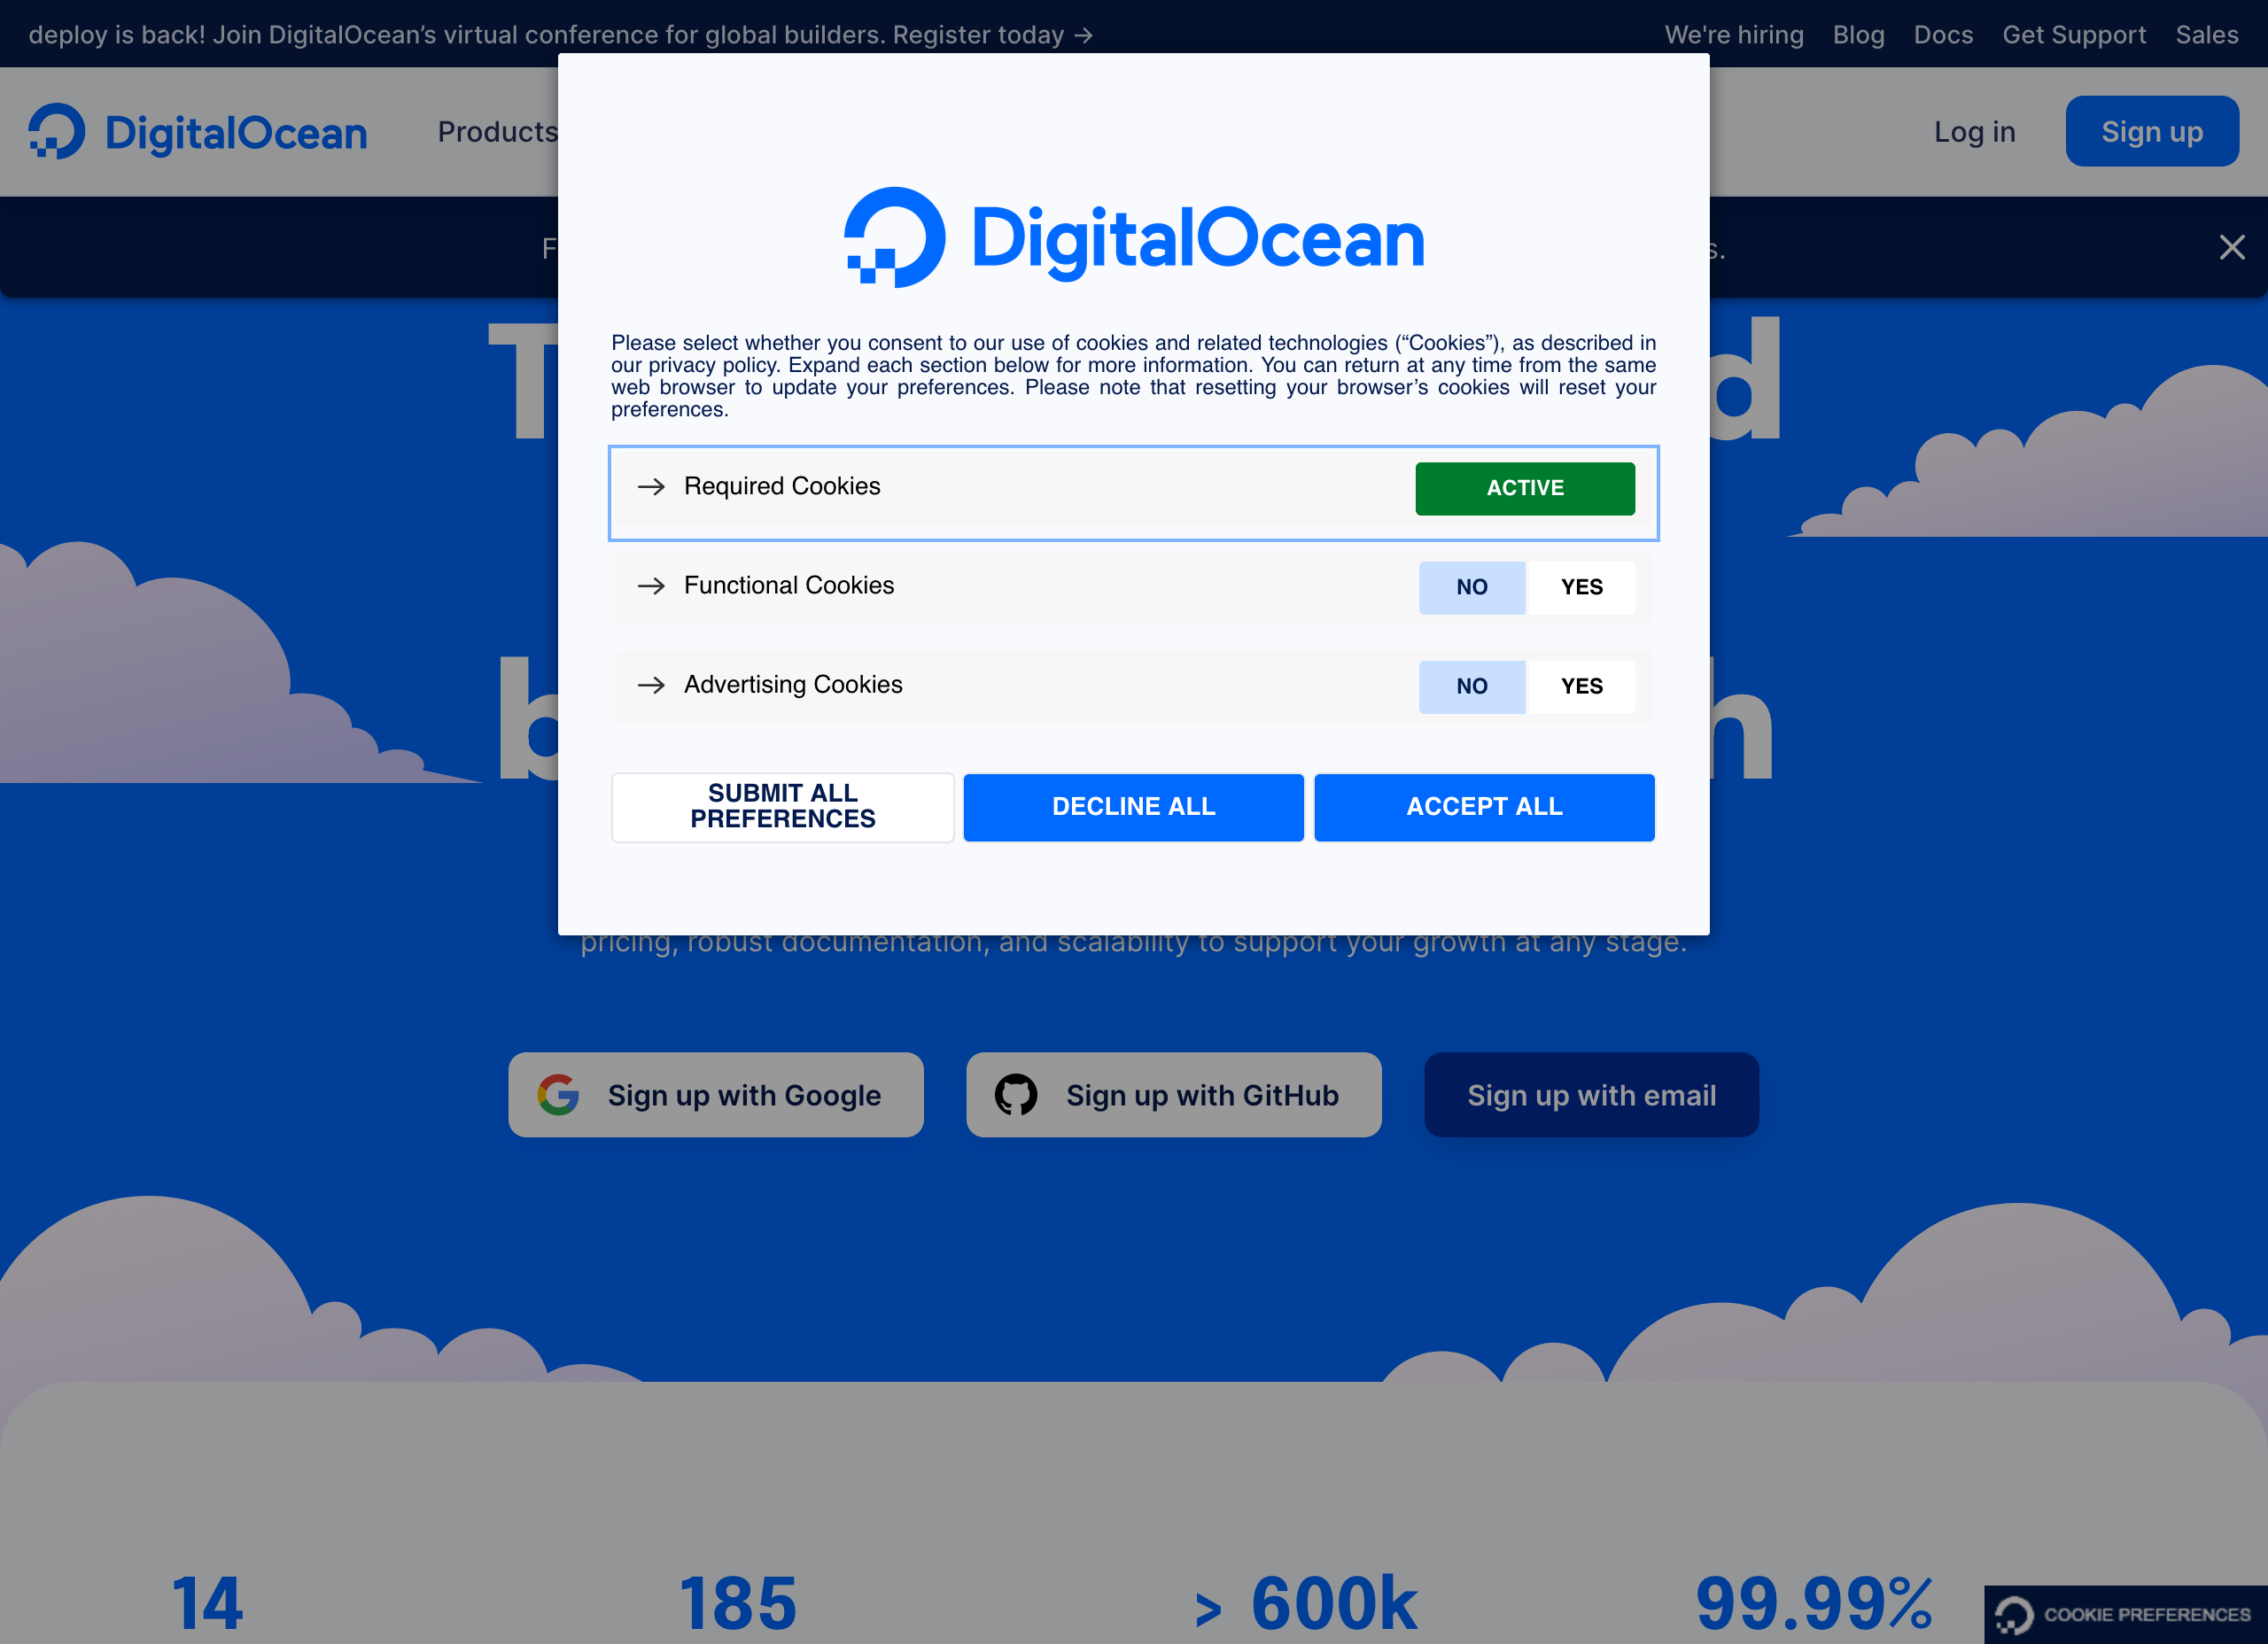Login: (1916, 88, 2043, 162)
